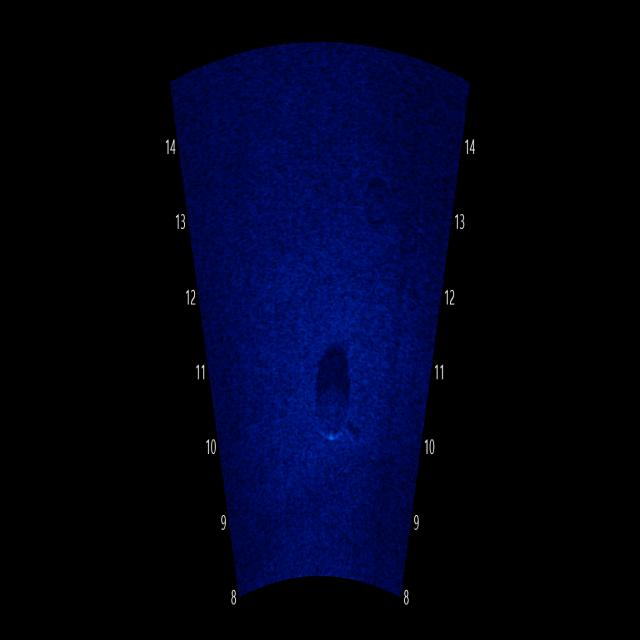circle: (297, 352, 368, 470)
